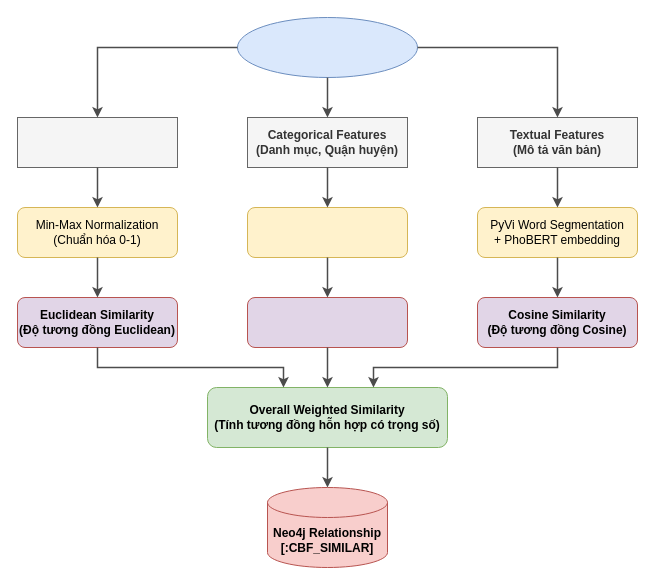
Image size: 655x585. Some labels were removed from this diagram. Each missing label, with the centre of its shape:
"Jaccard Similarity (Độ tương đồng Jaccard)" goes at pixel 327 322.
"Numerical Features (Giá cả, Sao, Reviews)" goes at pixel 97 142.
"One-Hot Encoding (Mã hóa nhị phân)" goes at pixel 327 232.
"POI Nodes & Attributes (Dữ liệu điểm du lịch)" goes at pixel 327 47.
